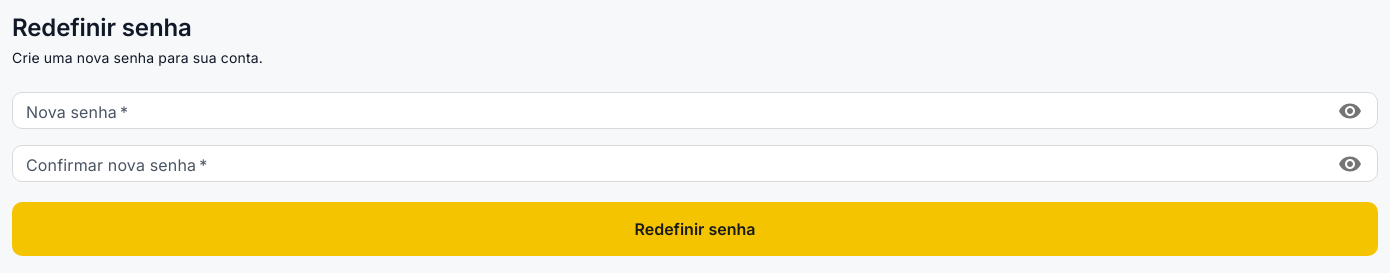
Test case: /reset-password — MFA e mapeamento de erros (FEAUTH-01/02/03) › conta sem MFA conclui na 1ª submissão sem campo TOTP (AC-1.4)
Type "SenhaForte123" into the password field labelled "Nova senha *" at (668, 111), box 12,92 -> 1325,129
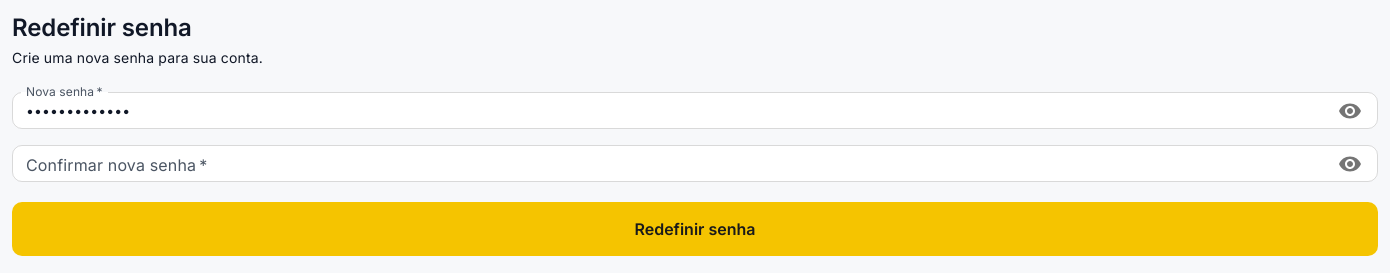
Type "SenhaForte123" into the password field labelled "Confirmar nova senha *" at (668, 164), box 12,145 -> 1325,182
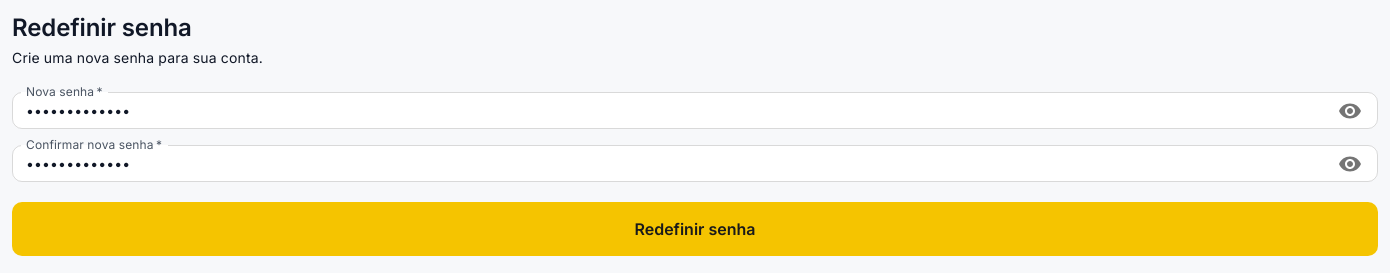
Click the button "Redefinir senha" at (695, 229), box 12,202 -> 1378,256
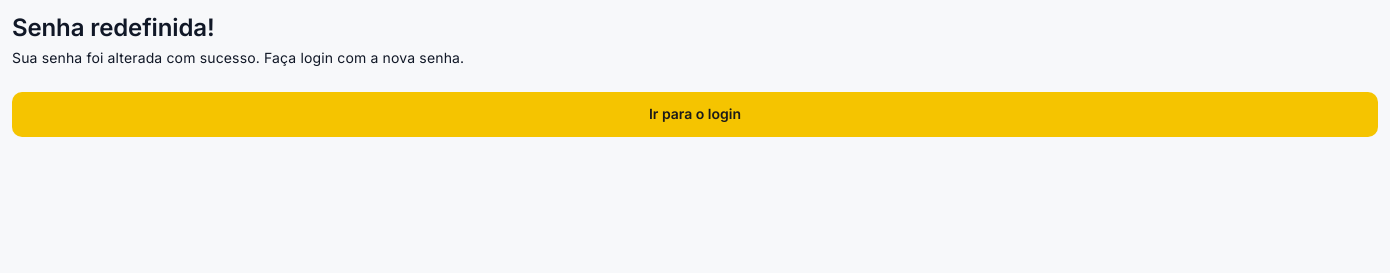
Check: the heading "Senha redefinida!" is shown, box 12,13 -> 214,42
